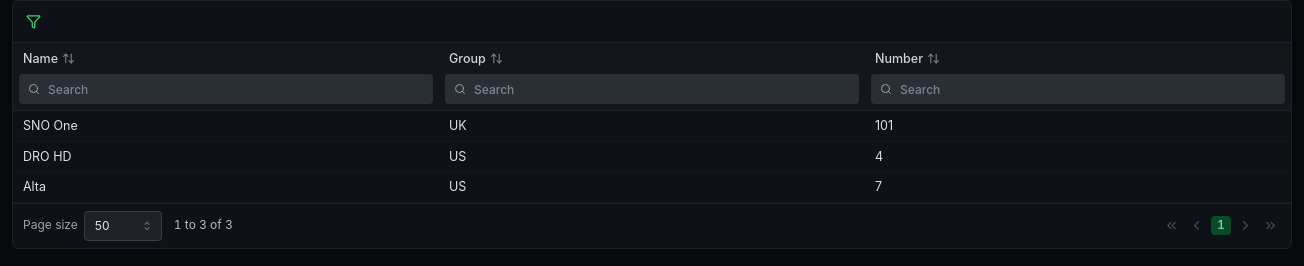
Test: DataTable › reports an empty range for a filter that matches nothing
Type "nothing matches" into the field named "Search name" at point(226, 89), box [19, 74, 433, 104]
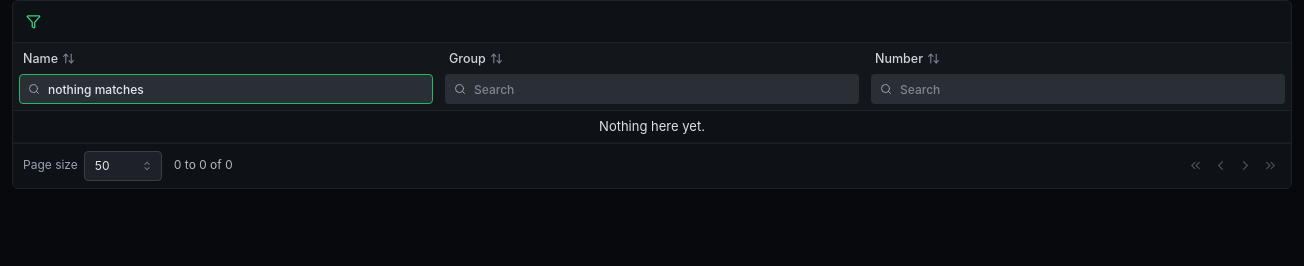
Expected: the text "0 to 0 of 0" is shown, [174, 156, 233, 175]
